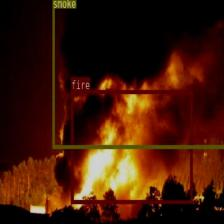fire: (71, 90, 192, 203)
smoke: (52, 0, 224, 148)
